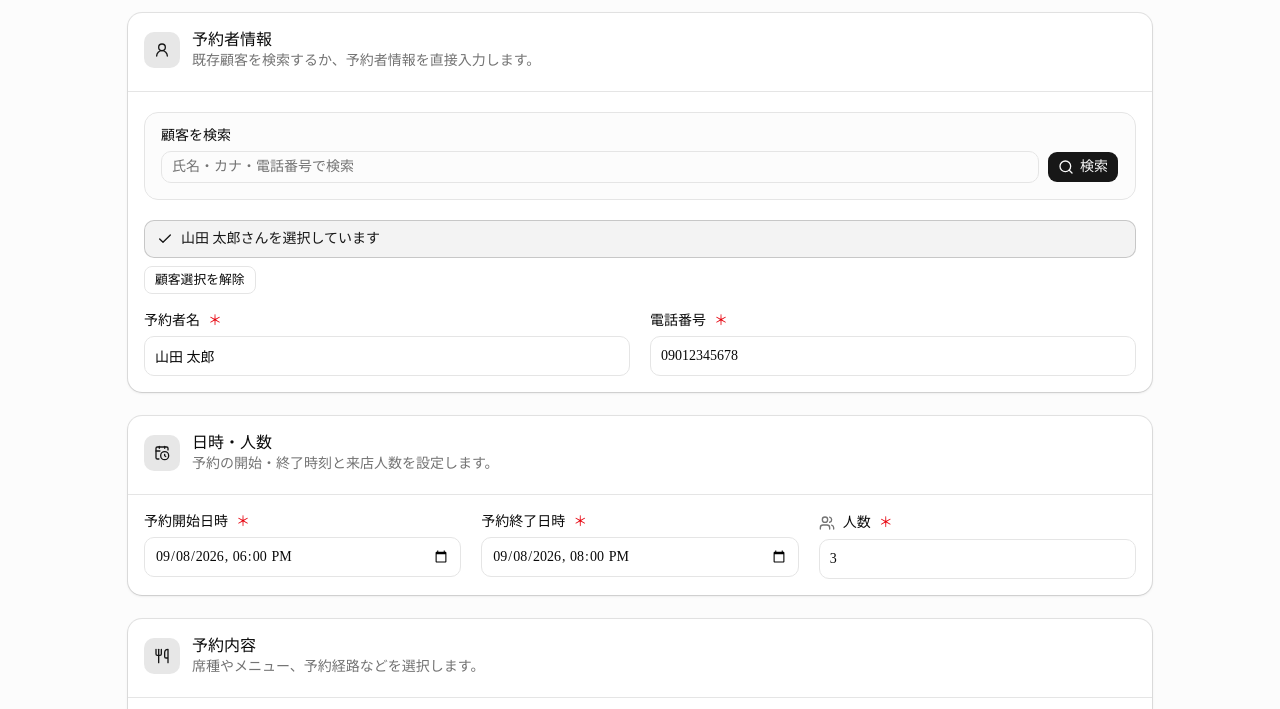
it: EditReservationFormContainer › 更新競合が発生すると、再取得を促すエラーを表示する
Replace the text in the number field labelled "人数 ＊" with "4" at (977, 559), box [819,539,1136,579]
(page scrolled)
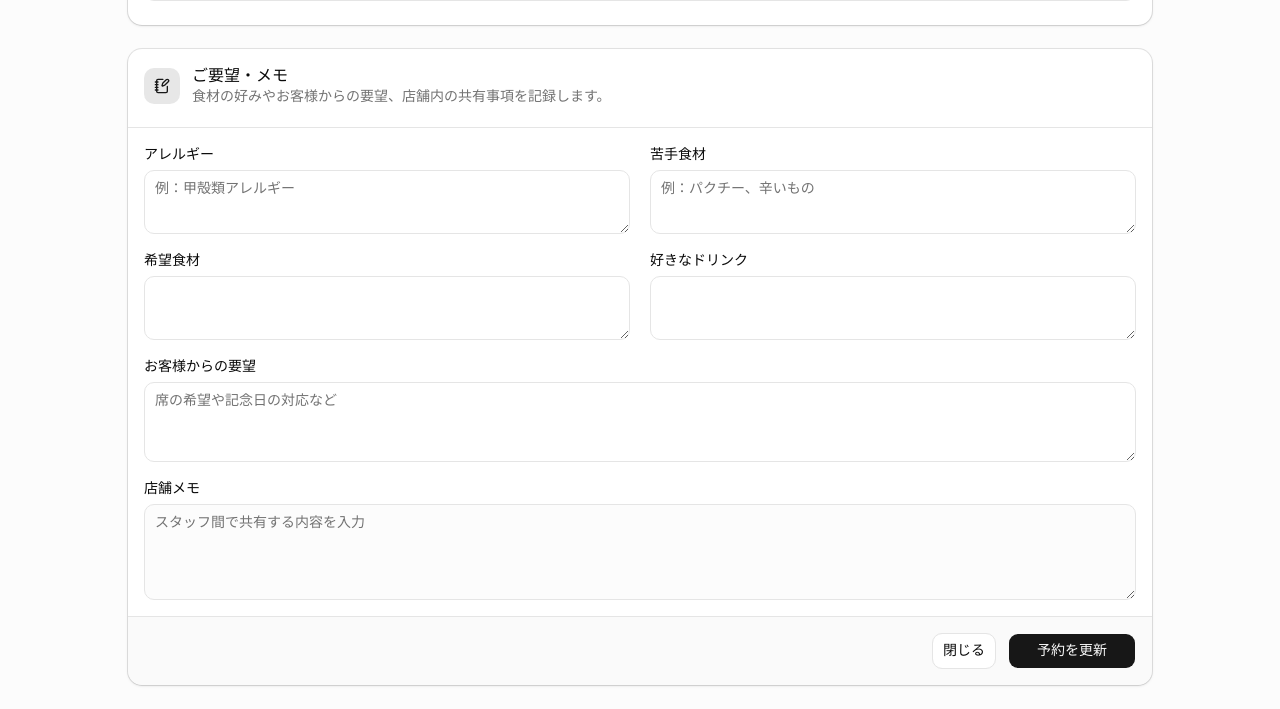
Click the button "予約を更新" at (1072, 651), box [1008,633,1136,669]
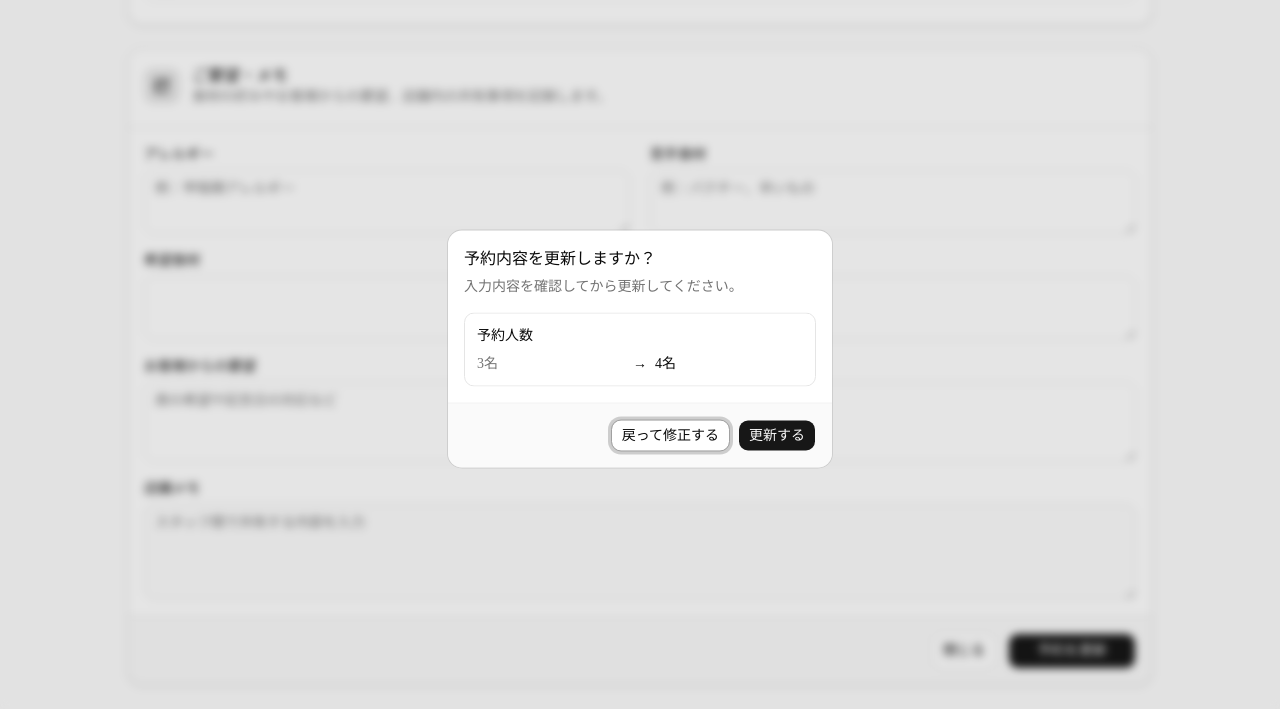
Click the button "更新する" at (777, 436), box [738,420,816,452]
(page scrolled)
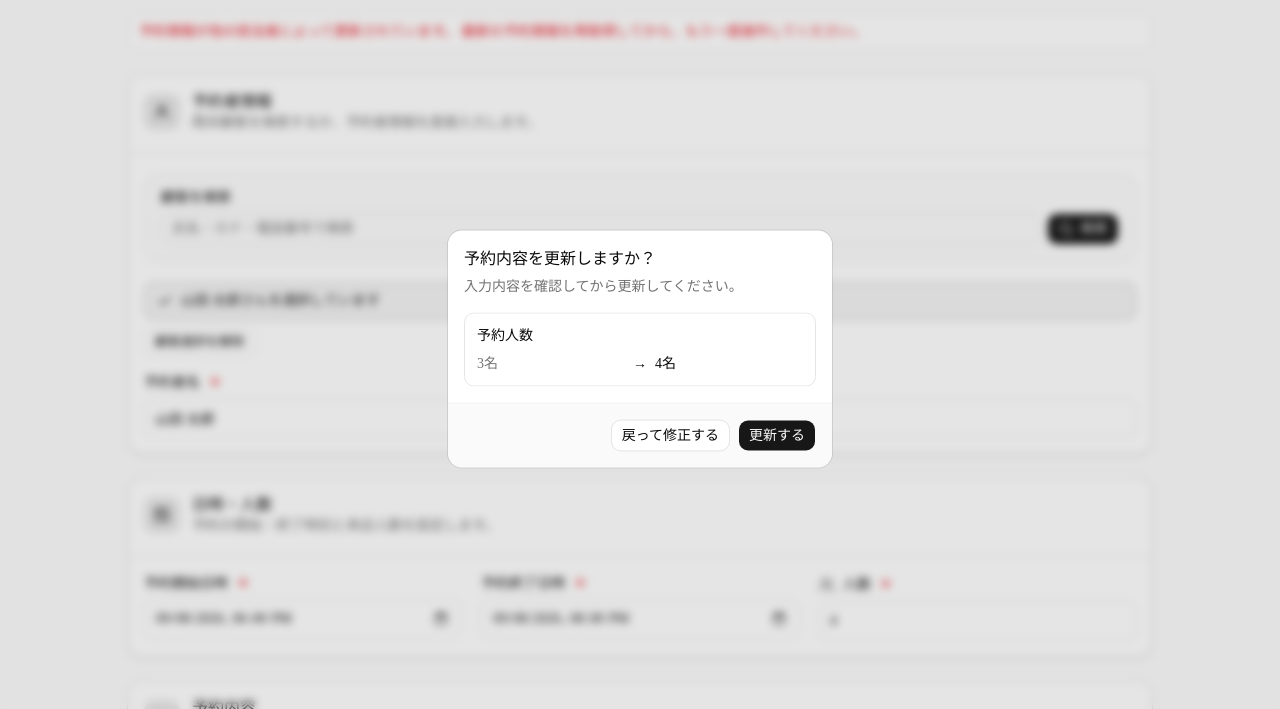
Expected: the text "予約情報が他の担当者によって更新されています。 最新の予約情報を再取得してから、もう一度操作してください。" is shown, [139,24,866,39]
